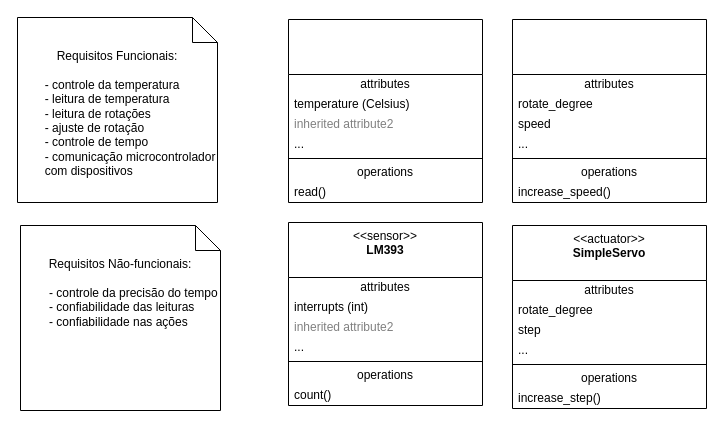
Image size: 724x428. Some labels were removed from this diagram. Each missing label, with the box of its shape:
<<actuator>> Servo360: (512, 18, 706, 202)
<<sensor>> LM35: (288, 18, 482, 202)
